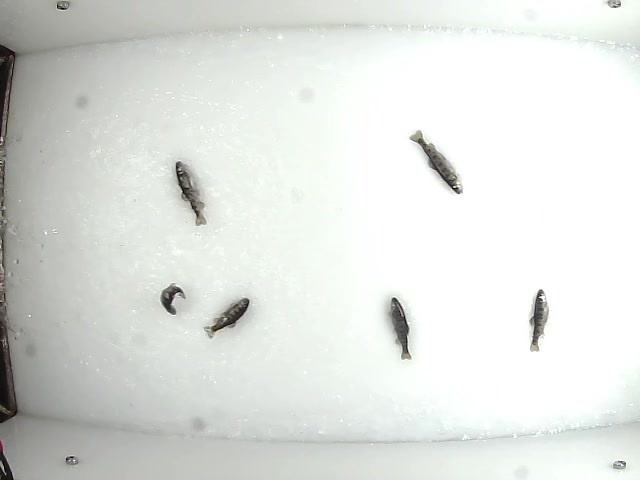fish: (405, 128, 467, 195), (174, 157, 210, 228), (202, 295, 250, 339), (387, 295, 415, 359), (526, 287, 550, 354), (157, 281, 186, 315)
